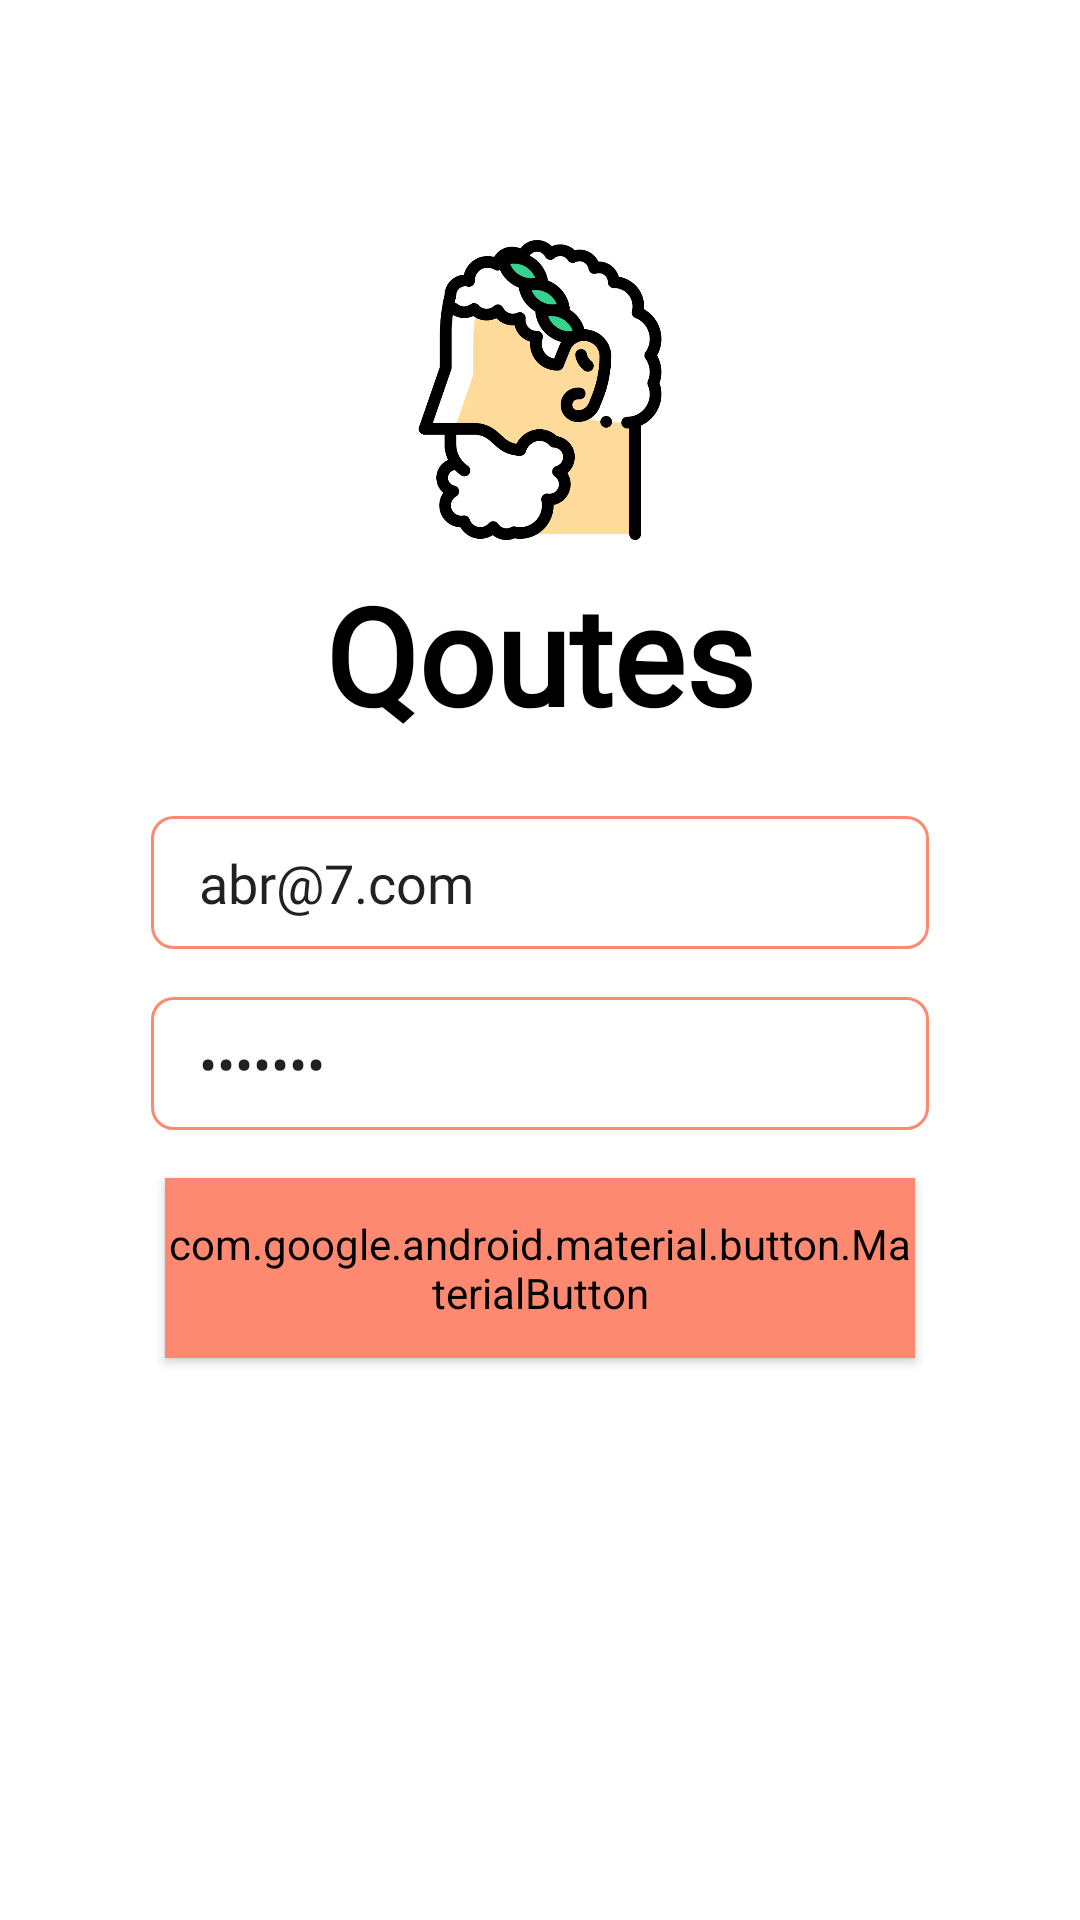

Where icons sit on this 1080*1920 app screen, as {"x1": x1, "y1": y1, "x2": x2, "y2": y2}:
greek: {"x1": 418, "y1": 240, "x2": 662, "y2": 540}
